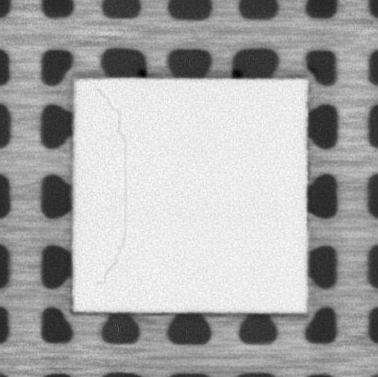DIE_CRACK: (90, 88, 129, 283)
